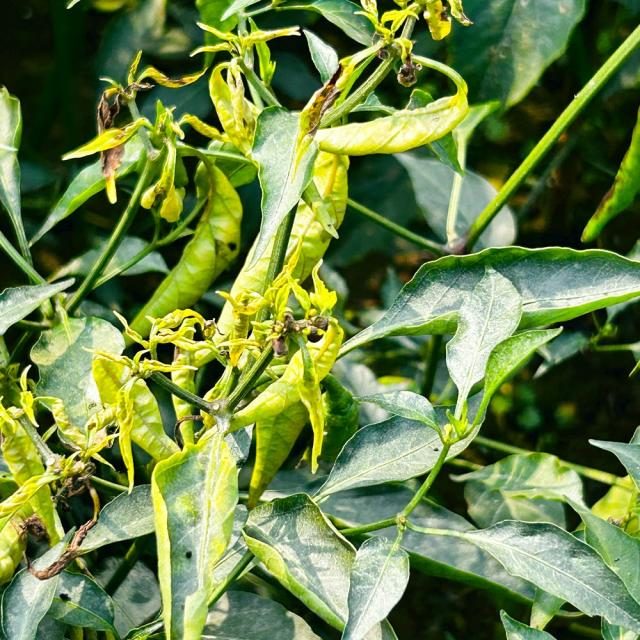Chilli_Leaf_Curl: (1, 1, 638, 638), (333, 243, 639, 434), (148, 424, 242, 638), (239, 492, 358, 634), (443, 265, 523, 431)
